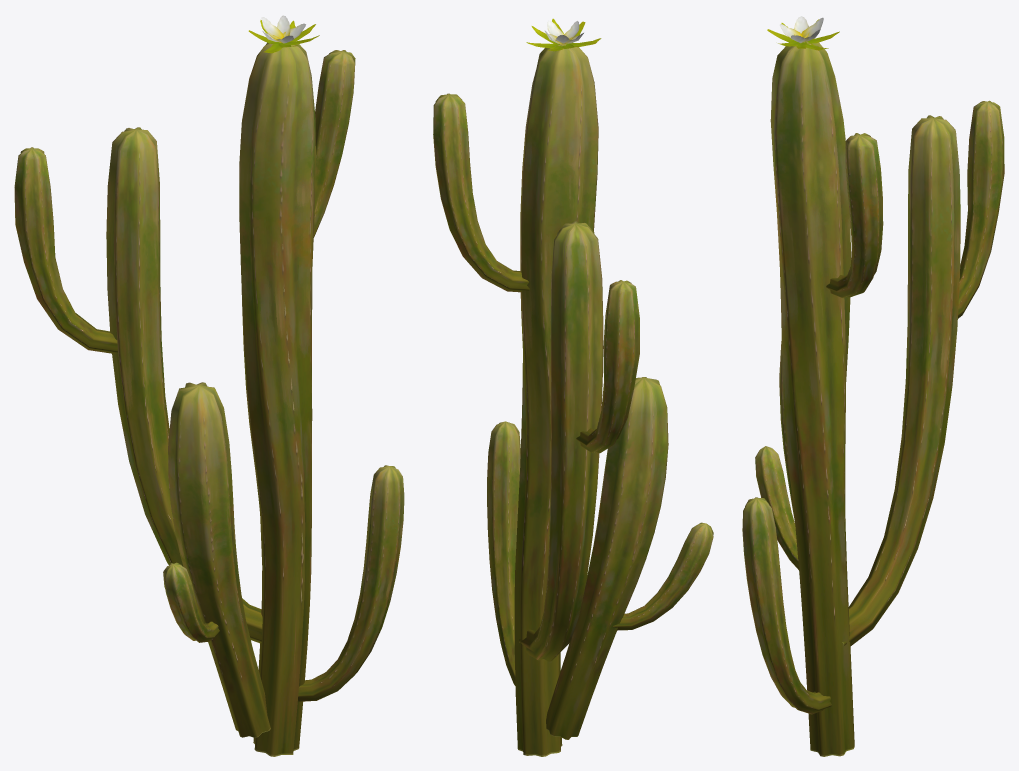
File: P_Cactus08.obj
3 views of the same model, side by side, from view 1: azimuth 30°, elevation 25°; view 2: azimuth 150°, elevation 25°; view 3: azimuth 270°, elevation 25° (orthographic). The views are drawn at different scales.
Bounding box in the file's own units: 3.73 × 9.7 × 3.19.
